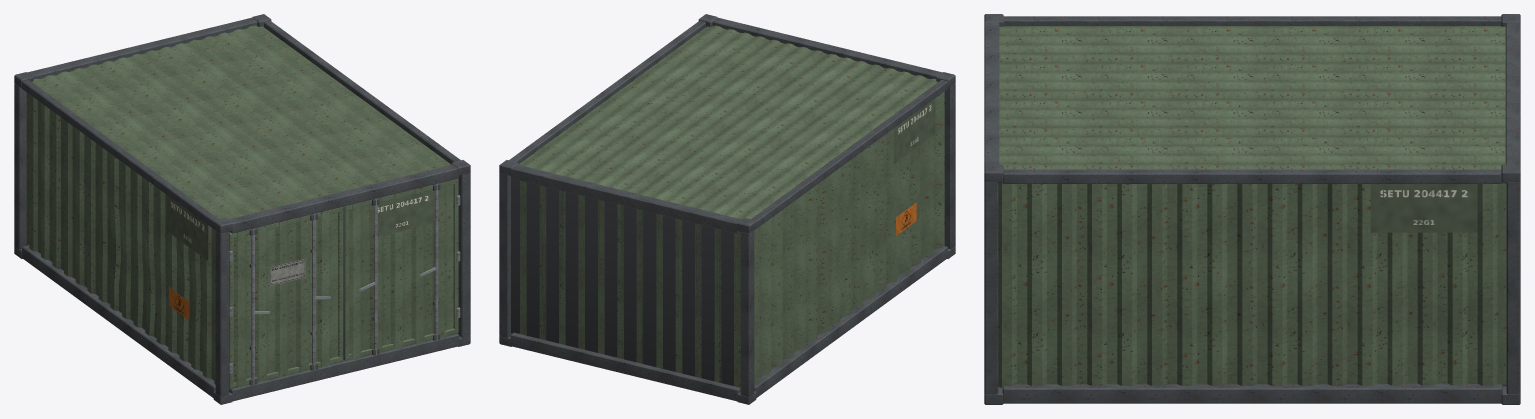
Rendered from cargo_container_dented_olive.gltf.
3 views of the same model, side by side, from view 1: azimuth 30°, elevation 25°; view 2: azimuth 150°, elevation 25°; view 3: azimuth 270°, elevation 25° (orthographic). The views are drawn at different scales.
Parts seen in each view (by area): view 1: Container_Dented_Body; view 2: Container_Dented_Body; view 3: Container_Dented_Body.
Part boxes in pixels (left/top/right/bottom): Container_Dented_Body: left=14, top=14, right=470, bottom=404; Container_Dented_Body: left=499, top=14, right=955, bottom=404; Container_Dented_Body: left=984, top=14, right=1520, bottom=404.
Size of the model in its own units: 3.5 by 2.4 by 5.
4 materials, 4 textured.
